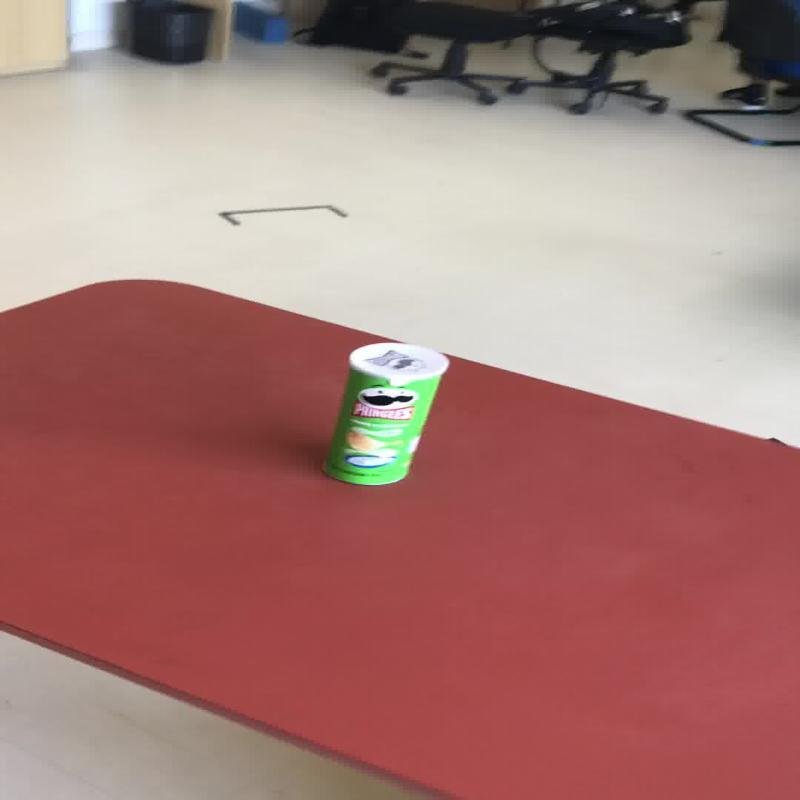pringles: (319, 341, 448, 486)
